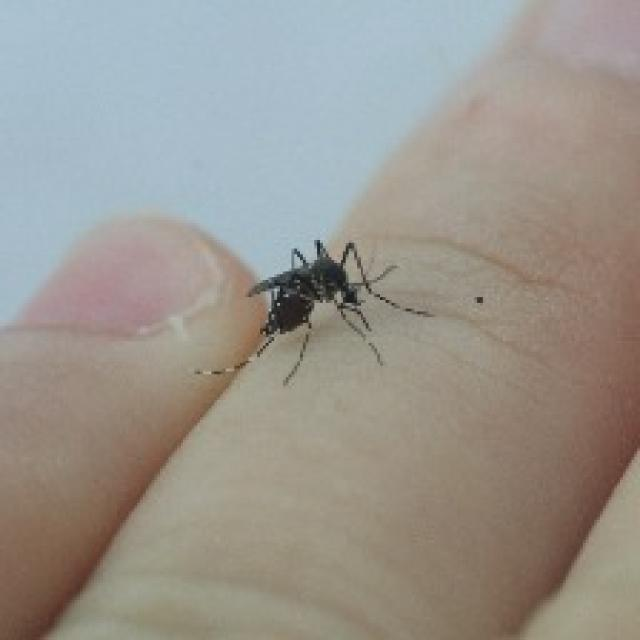aedes: (192, 234, 434, 386)
